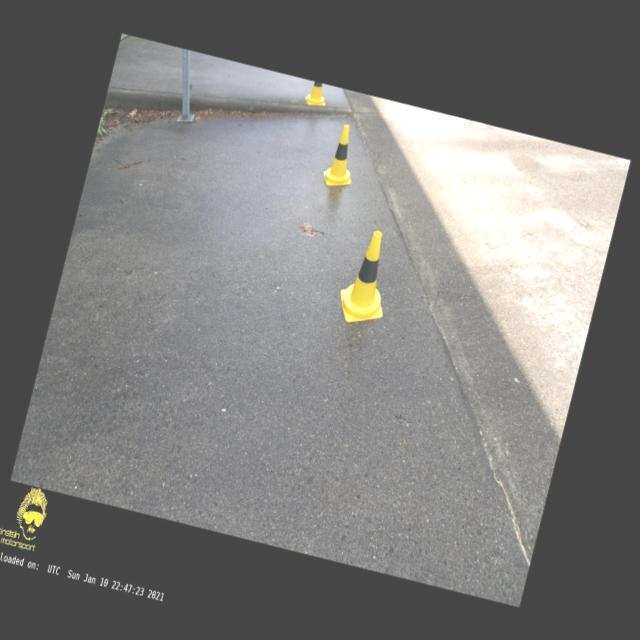yellow_cone: (334, 225, 402, 329), (320, 121, 364, 190), (304, 80, 329, 109)
